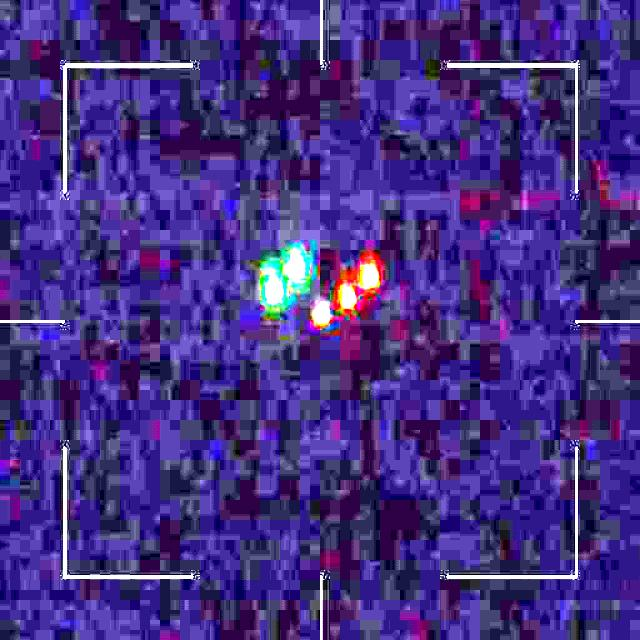bird: (264, 249, 381, 328)
